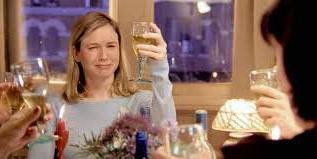Drunk: (85, 28, 119, 76)
